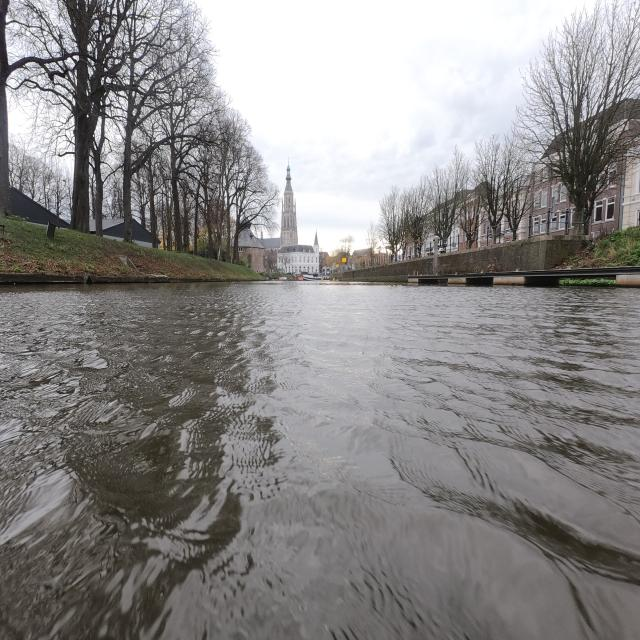dock: (407, 266, 640, 287), (4, 270, 166, 286)
grass: (0, 219, 262, 281), (594, 228, 638, 266)
sky: (194, 4, 580, 248), (8, 2, 294, 214)
tree: (518, 0, 640, 232)
wall: (438, 235, 581, 273), (334, 255, 432, 281)
water: (12, 288, 638, 636)
